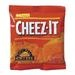grozi_9: (8, 6, 65, 69)
